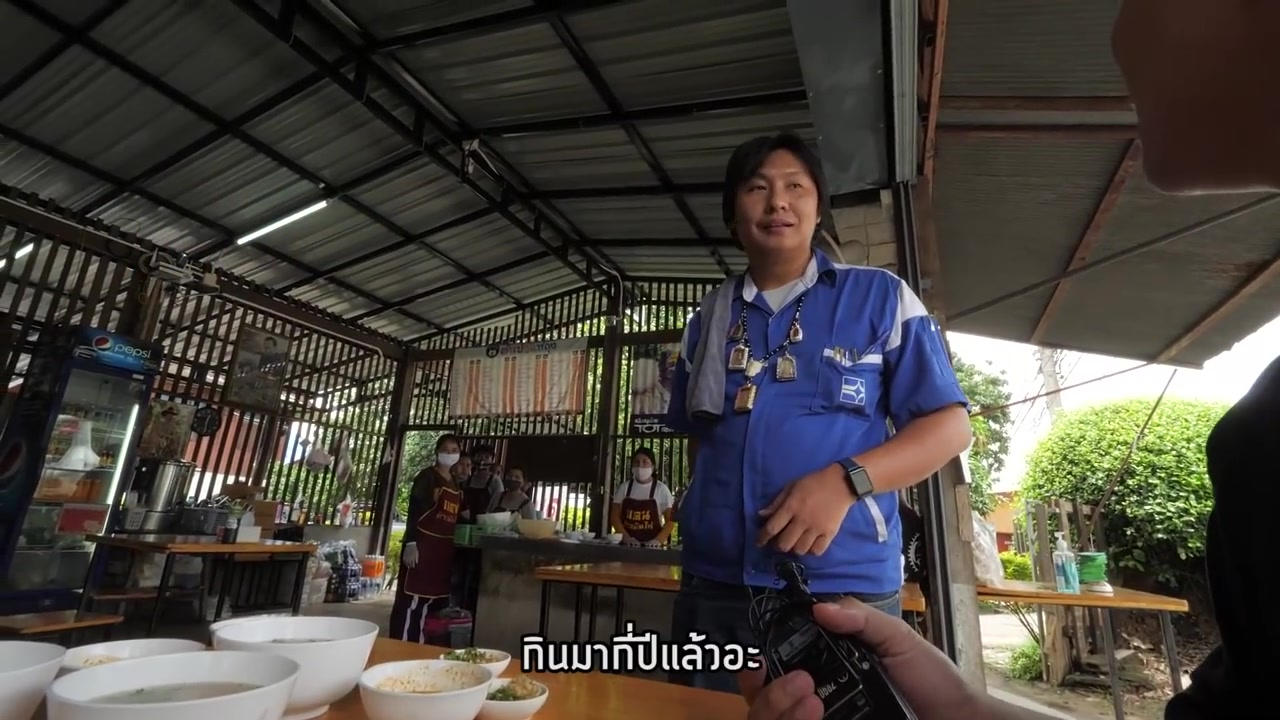text-label: (516, 618, 767, 677)
